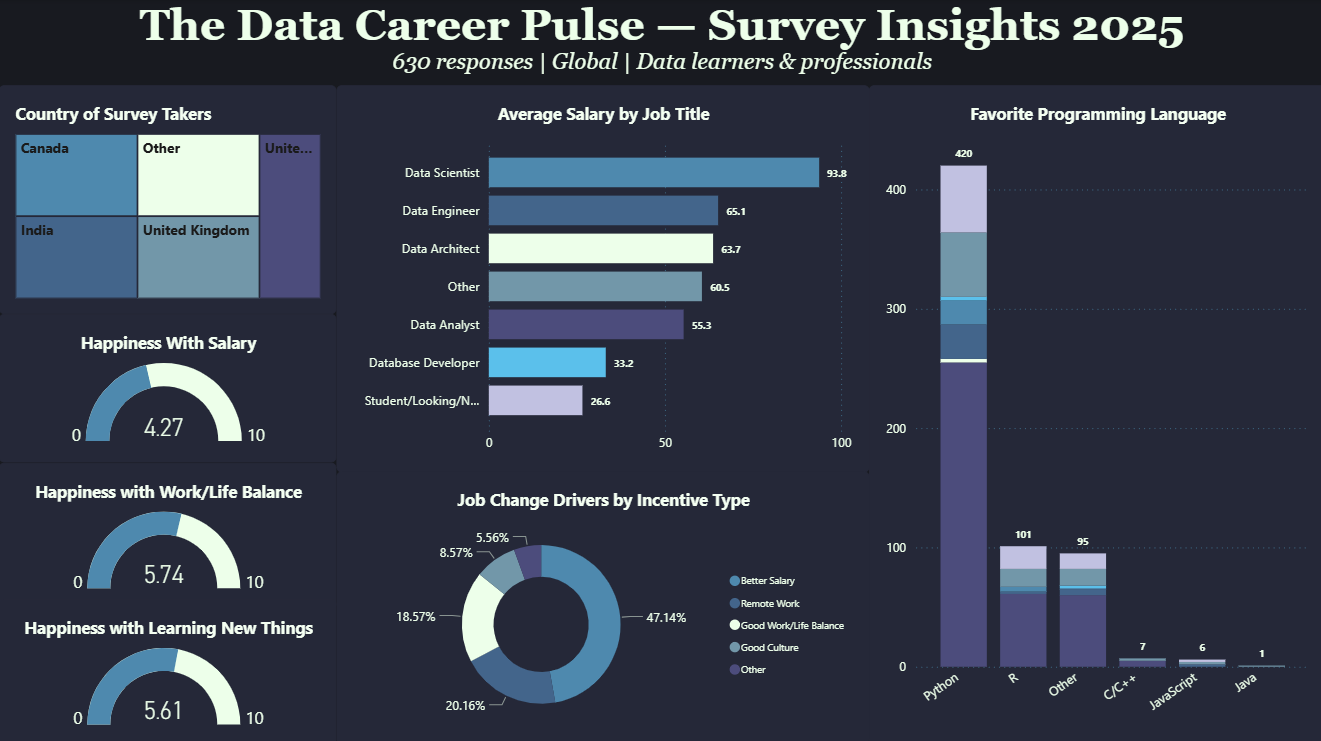

The page's visual inventory and layout, read from the dashboard file:
{"tool":"powerbi","page":{"name":"Page 1","canvas":[1280,720],"ordinal":0},"visuals":[{"type":"textbox","box":[0,0,1280,83.2],"z":0},{"type":"barChart","title":"Average Salary by Job Title","fields":{"Category":["Data Professional Survey.Q1 - Which Title Best Fits your Current Role?.1"],"Y":["Avg(Data Professional Survey.Average Salary)"],"Series":["Data Professional Survey.Q1 - Which Title Best Fits your Current Role?.1"]},"box":[325.4,83.1,514.1,373.2],"z":1000},{"type":"columnChart","title":"Favorite Programming Language","fields":{"Category":["Data Professional Survey.Q5 - Favorite Programming Language.1"],"Y":["CountNonNull(Data Professional Survey.Unique ID)"],"Series":["Data Professional Survey.Q1 - Which Title Best Fits your Current Role?.1"]},"box":[839.4,83.1,440.8,636.6],"z":2000},{"type":"treemap","title":"Country of Survey Takers","fields":{"Group":["Data Professional Survey.Q11 - Which Country do you live in?.1"],"Values":["Count(Data Professional Survey.Q11 - Which Country do you live in?.1)"]},"box":[0,83.1,325.4,221.1],"z":3000},{"type":"gauge","title":"Happiness with Work/Life Balance","fields":{"Y":["Avg(Data Professional Survey.Q6 - How Happy are you in your Current Position with the following? (Work/Life Balance))"],"MinValue":["Min(Data Professional Survey.Q6 - How Happy are you in your Current Position with the following? (Work/Life Balance))1"],"MaxValue":["Max(Data Professional Survey.Q6 - How Happy are you in your Current Position with the following? (Work/Life Balance))2"]},"box":[0,447.1,325.7,141.4],"z":4000},{"type":"gauge","title":"Happiness With Salary","fields":{"Y":["Avg(Data Professional Survey.Q6 - How Happy are you in your Current Position with the following? (Salary))"],"MinValue":["Min(Data Professional Survey.Q6 - How Happy are you in your Current Position with the following? (Salary))"],"MaxValue":["Max(Data Professional Survey.Q6 - How Happy are you in your Current Position with the following? (Salary))"]},"box":[0,304.3,325.7,142.9],"z":5000},{"type":"donutChart","title":"Job Change Drivers by Incentive Type","fields":{"Category":["Data Professional Survey.Q8 - If you were to look for a new job today, what would be the most important t"],"Y":["CountNonNull(Data Professional Survey.Q8 - If you were to look for a new job today, what would be the most important t)"]},"box":[325.4,456.3,514.1,263.4],"z":6000},{"type":"gauge","title":"Happiness with Learning New Things","fields":{"Y":["Avg(Data Professional Survey.Q6 - How Happy are you in your Current Position with the following? (Learning New Things))"],"MinValue":["Min(Data Professional Survey.Q6 - How Happy are you in your Current Position with the following? (Learning New Things))"],"MaxValue":["Max(Data Professional Survey.Q6 - How Happy are you in your Current Position with the following? (Learning New Things))"]},"box":[0,578.6,325.7,141.4],"z":7000}]}

Visuals, with their boxes in screenshot pixels (x1, y1, x2, y2), scaled from the page's 1280x720 canvas onto the 1321x741 screenshot:
textbox: (x1=0, y1=0, x2=1320, y2=86)
"Average Salary by Job Title" barChart: (x1=336, y1=86, x2=866, y2=470)
"Favorite Programming Language" columnChart: (x1=866, y1=86, x2=1320, y2=740)
"Country of Survey Takers" treemap: (x1=0, y1=86, x2=336, y2=313)
"Happiness with Work/Life Balance" gauge: (x1=0, y1=460, x2=336, y2=606)
"Happiness With Salary" gauge: (x1=0, y1=313, x2=336, y2=460)
"Job Change Drivers by Incentive Type" donutChart: (x1=336, y1=470, x2=866, y2=740)
"Happiness with Learning New Things" gauge: (x1=0, y1=595, x2=336, y2=740)
